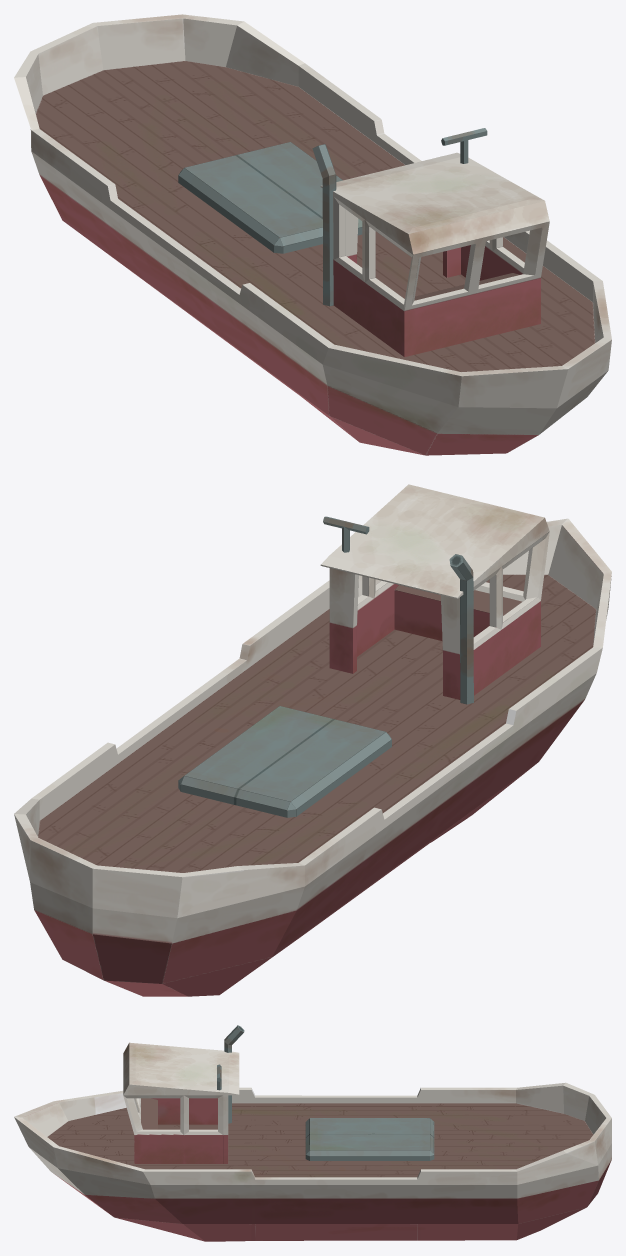
The model's file is FishingBoat.fbx.
3 renders of one model, top to bottom at view 1: azimuth 30°, elevation 25°; view 2: azimuth 150°, elevation 25°; view 3: azimuth 270°, elevation 25°, orthographic. The views are drawn at different scales.
Visible parts, largest first — view 1: Hull, Cabin, PitCover, Exhaust, Model; view 2: Hull, Cabin, PitCover, Exhaust; view 3: Hull, Cabin, PitCover, Exhaust.
Boxes of the visible parts, box(x1,y1,x2,y2) form: Hull: box(14, 14, 611, 455); Cabin: box(320, 152, 549, 357); PitCover: box(178, 142, 362, 253); Exhaust: box(312, 144, 336, 306); Model: box(441, 128, 487, 163); Hull: box(14, 518, 611, 996); Cabin: box(320, 484, 549, 699); PitCover: box(178, 706, 391, 817); Exhaust: box(449, 554, 473, 704); Hull: box(14, 1082, 611, 1241); Cabin: box(123, 1042, 239, 1163); PitCover: box(305, 1118, 434, 1160); Exhaust: box(224, 1025, 244, 1123).
Bounding box in the file's own units: 1449 × 1482 × 4356.
Materials: 5 (5 with a texture image).
